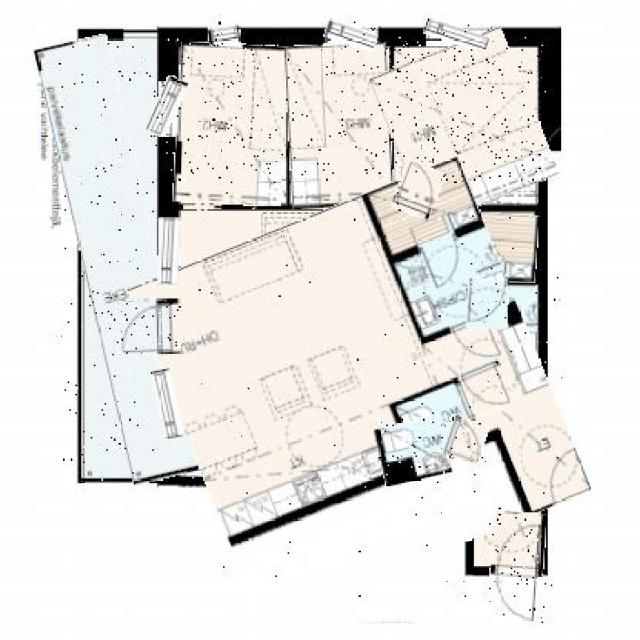door: (489, 512, 545, 623), (117, 298, 180, 356), (394, 163, 441, 219), (463, 362, 511, 412), (466, 280, 509, 329), (442, 417, 488, 461)
window: (149, 75, 183, 137), (155, 369, 180, 438), (425, 23, 489, 48), (157, 217, 180, 285), (324, 22, 376, 49), (209, 22, 240, 46)
zone: (153, 183, 564, 597), (58, 37, 182, 483), (382, 37, 546, 214), (286, 43, 392, 209), (176, 43, 284, 205), (440, 282, 535, 363), (437, 211, 538, 280), (377, 420, 451, 485)
